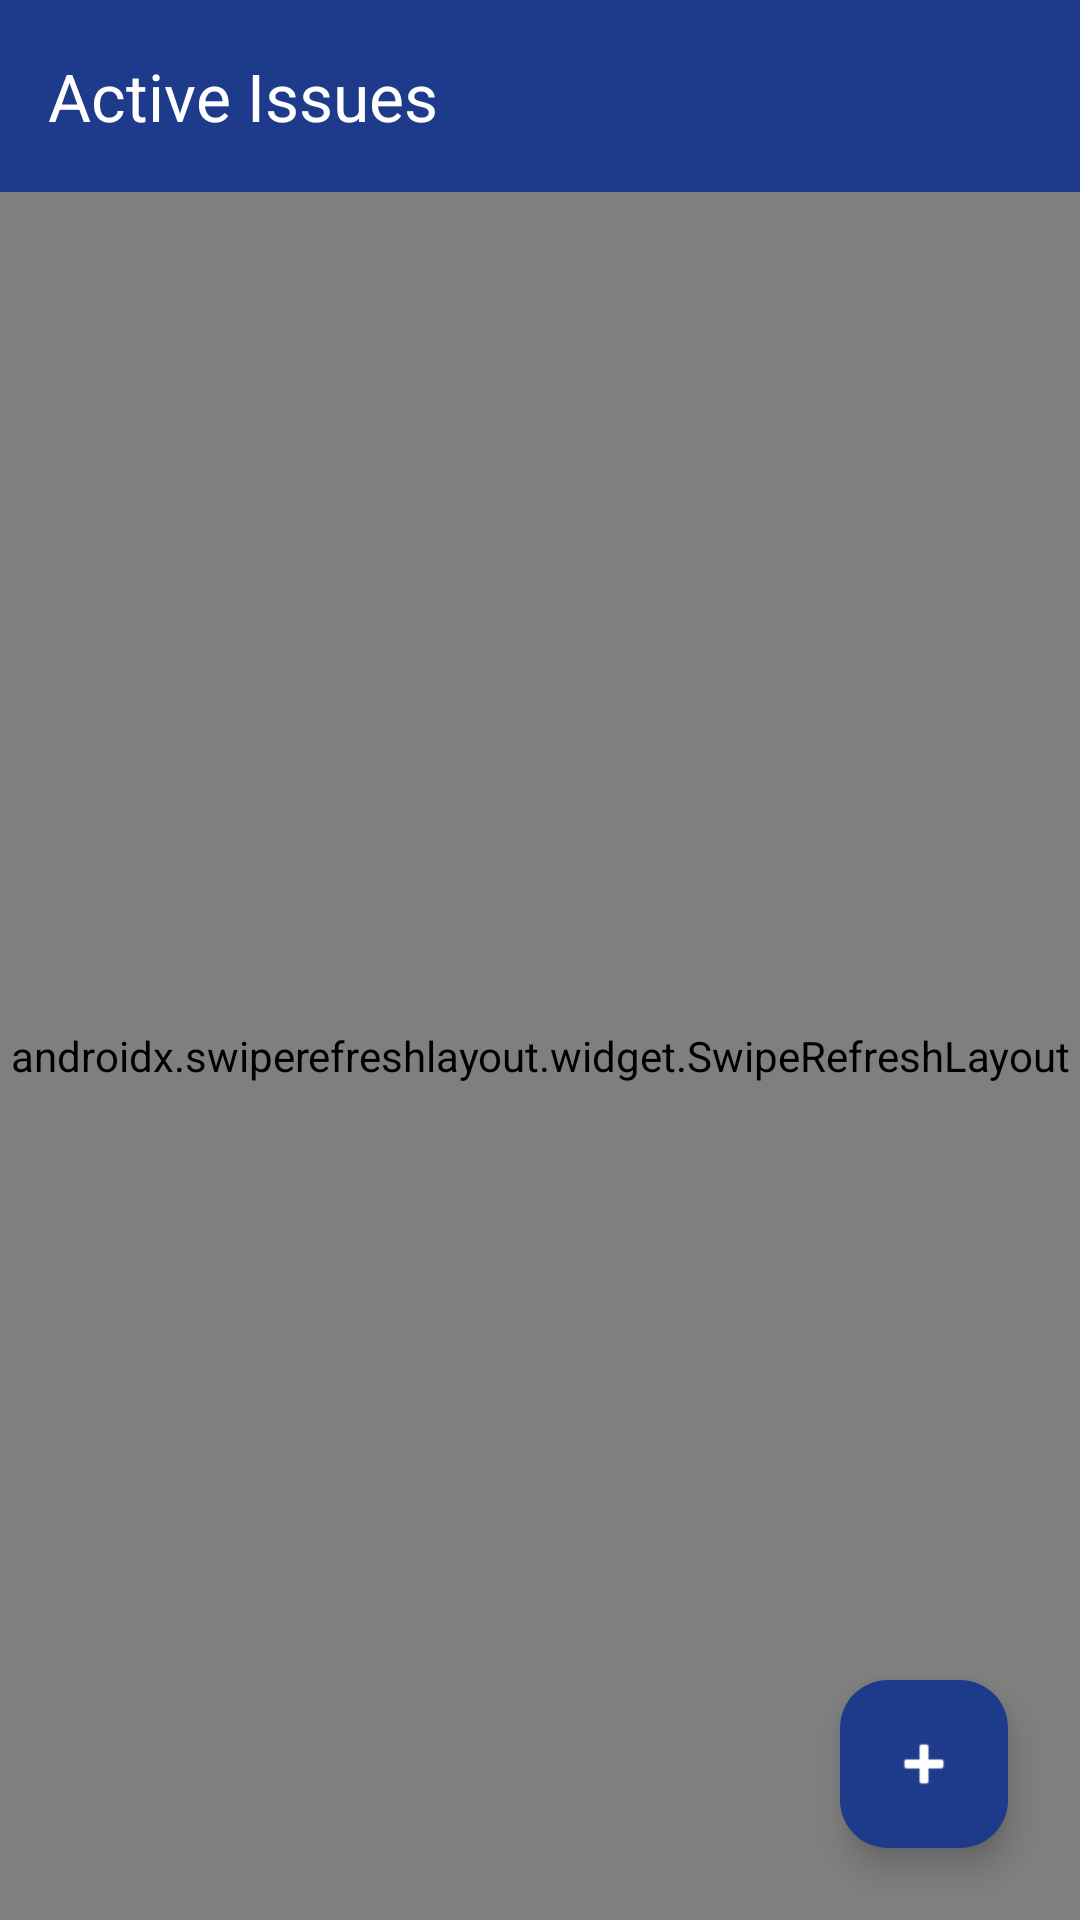

Named icons in this screenshot (1080 × 1920) and their centers, (x,y):
Create new bug report: (924,1764)
